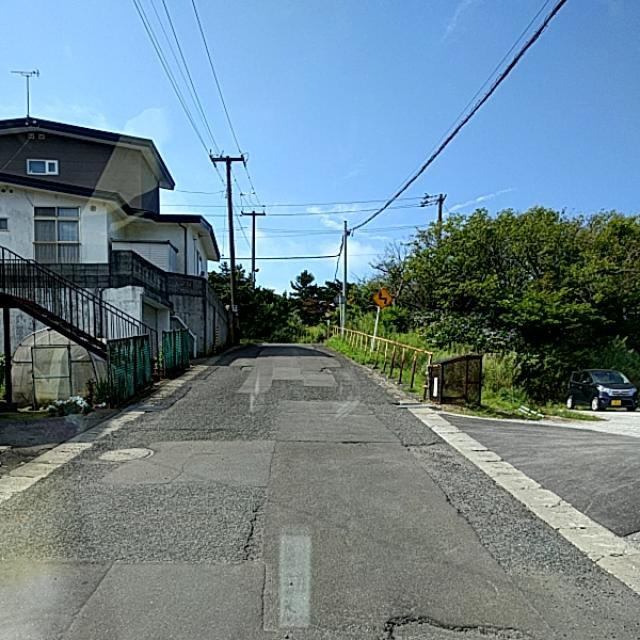pothole: (238, 488, 269, 584)
